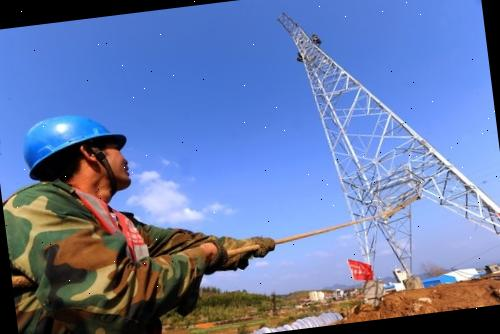helmet: (13, 104, 132, 175)
no_wear: (3, 183, 181, 334)
